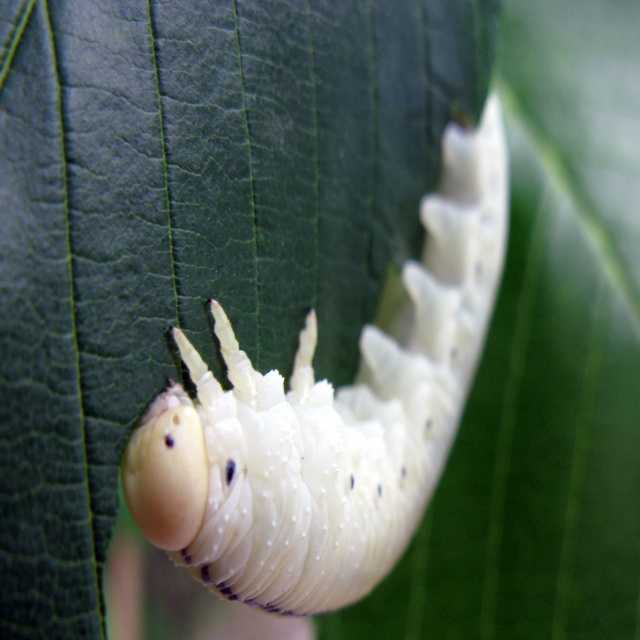Caterpillar: (121, 92, 510, 616)
